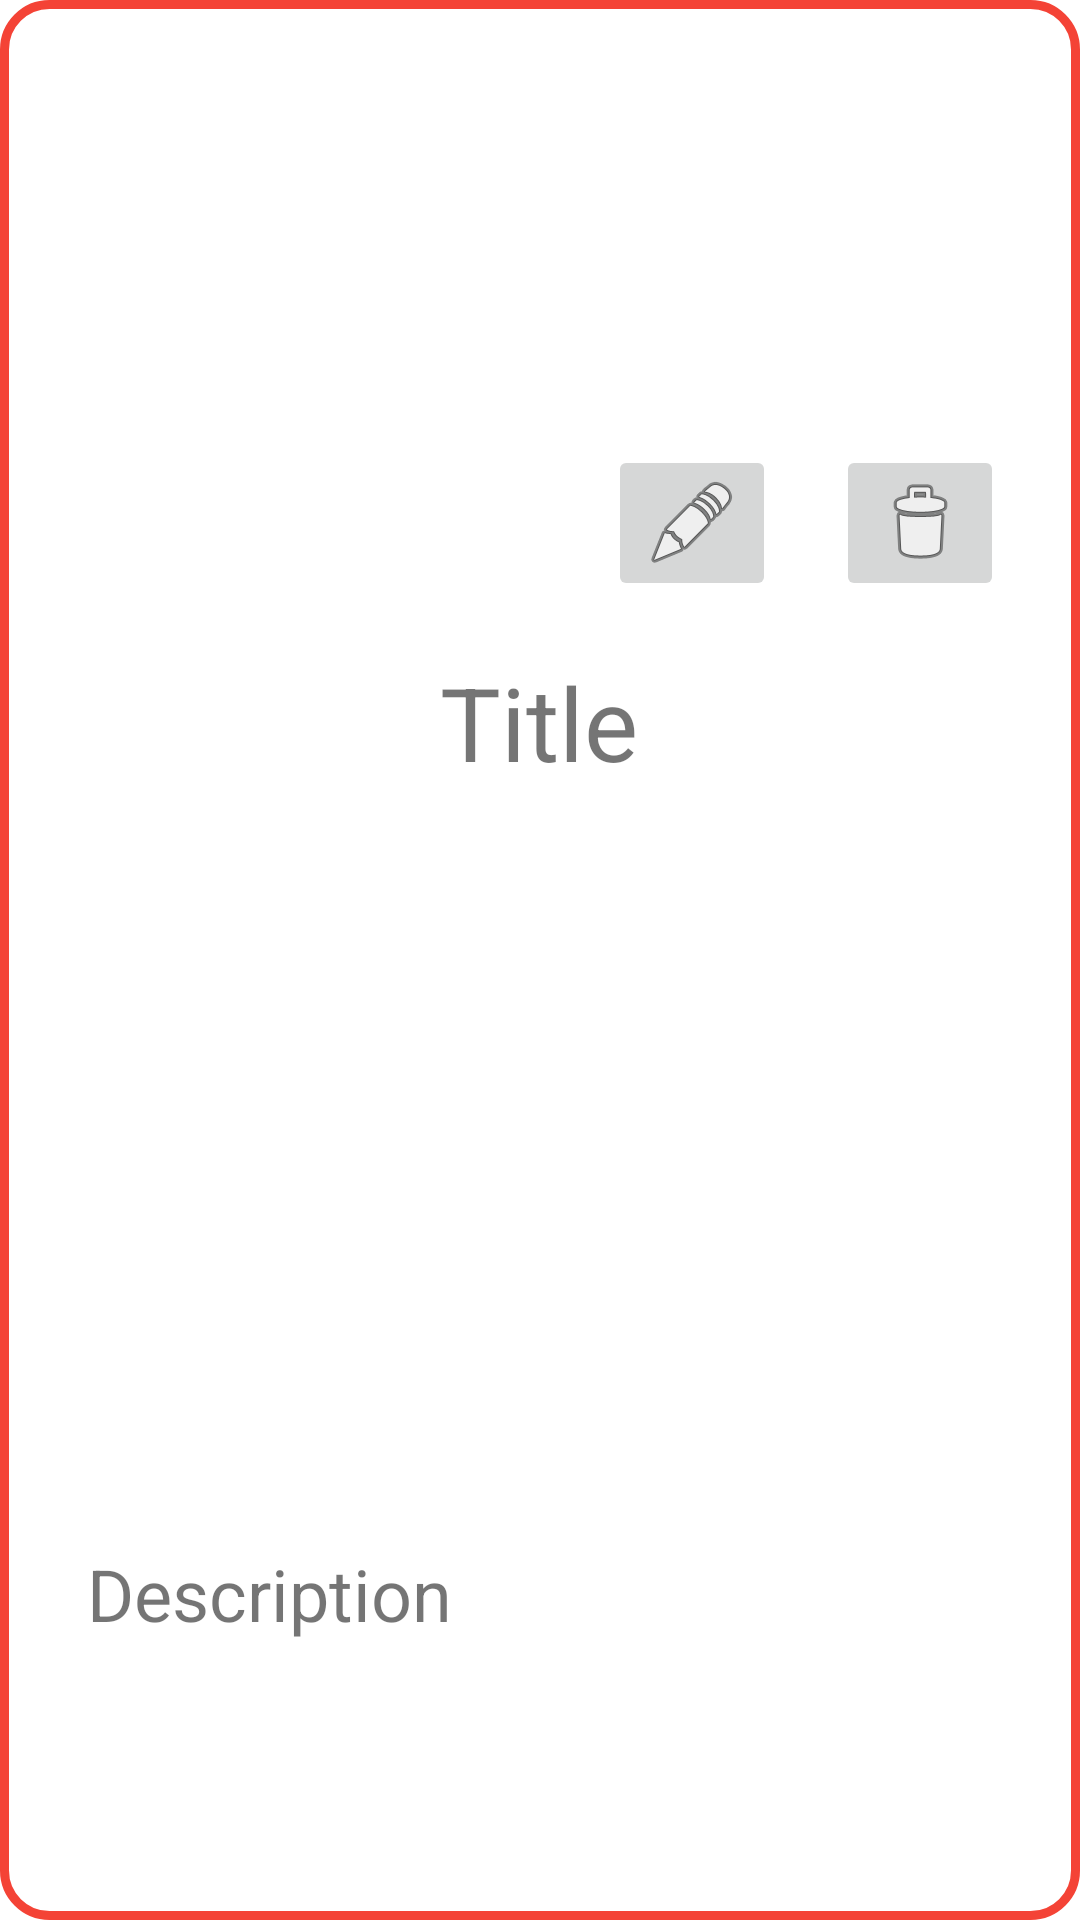

Screen size 1080 x 1920. Icon name, then its box in pixels as (x1, y1, x2, y2):
delete: (848, 463, 992, 583)
edit: (620, 463, 764, 583)
